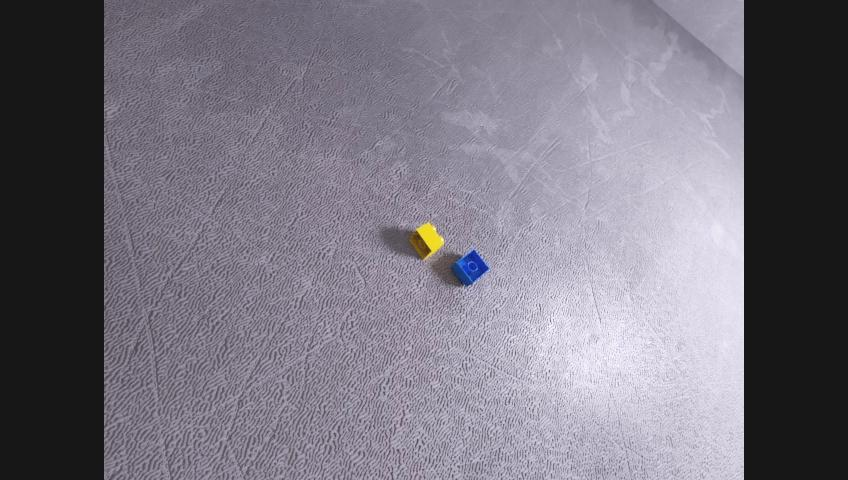2x2_blue: (450, 248, 488, 286)
2x2_yellow: (408, 222, 443, 259)
